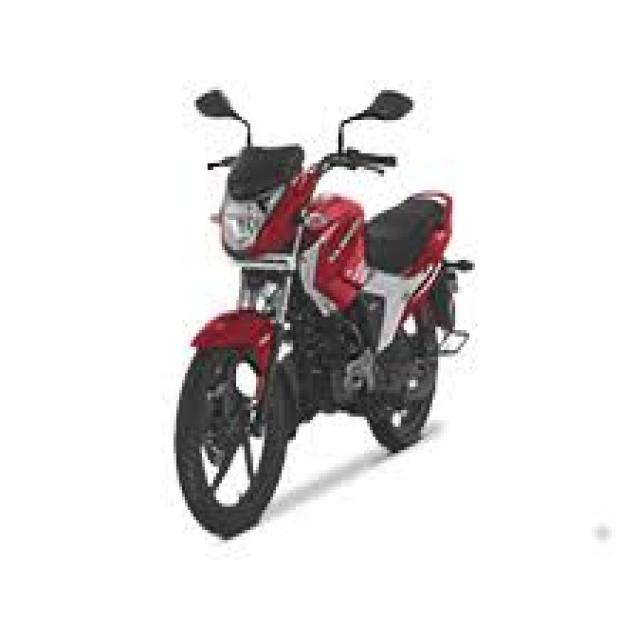Bike: (173, 88, 474, 540)
